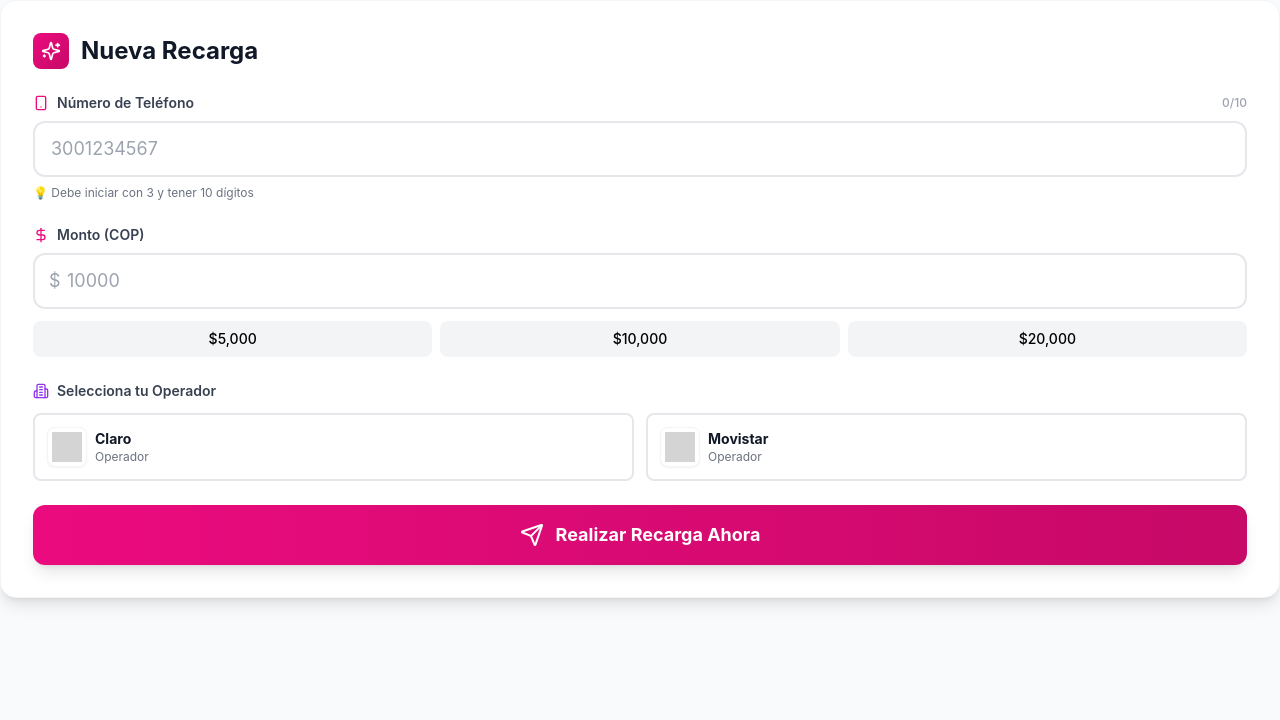
Test: RechargeForm › should show validation error for invalid amount
expect the heading "Nueva Recarga" is shown: met, box 81,35 -> 258,67
Note: Ingresar monto inválido (menor al mínimo)
In the field labelled "Monto (COP)": {"x": 640, "y": 281} 33,253 -> 1247,309, type "500"
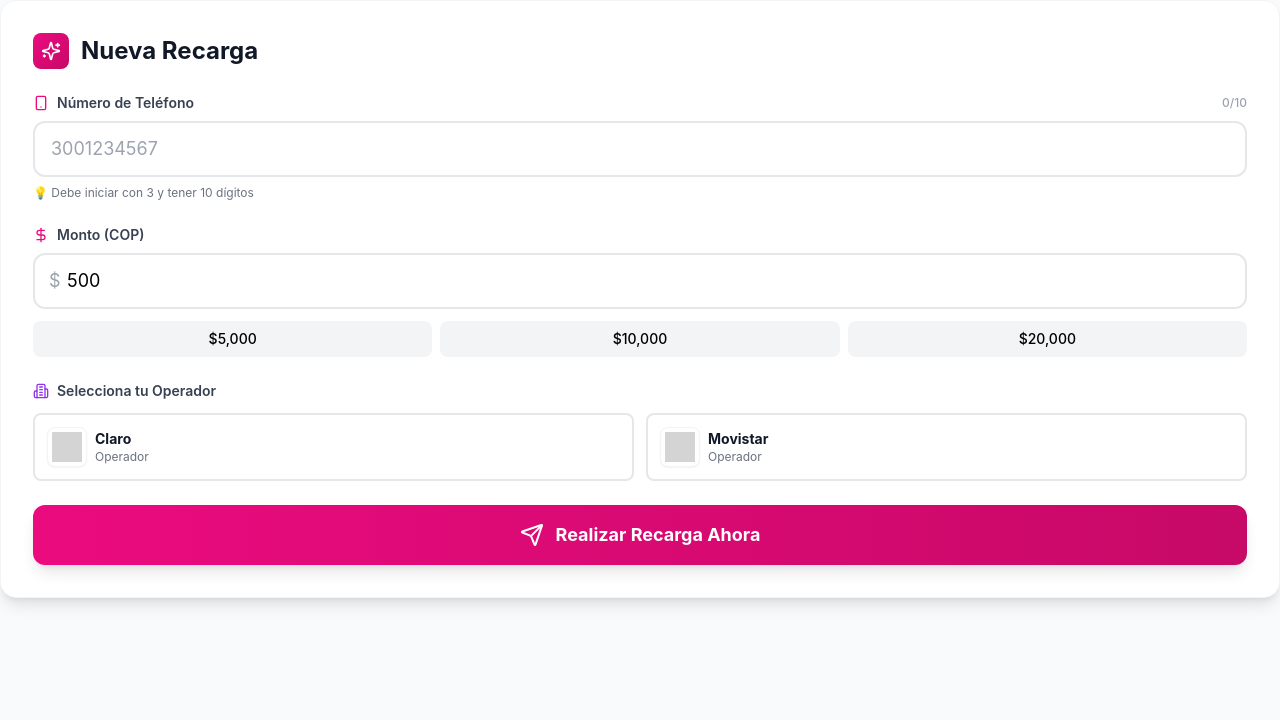
Click the button "Realizar Recarga Ahora": {"x": 640, "y": 535} 33,505 -> 1247,565
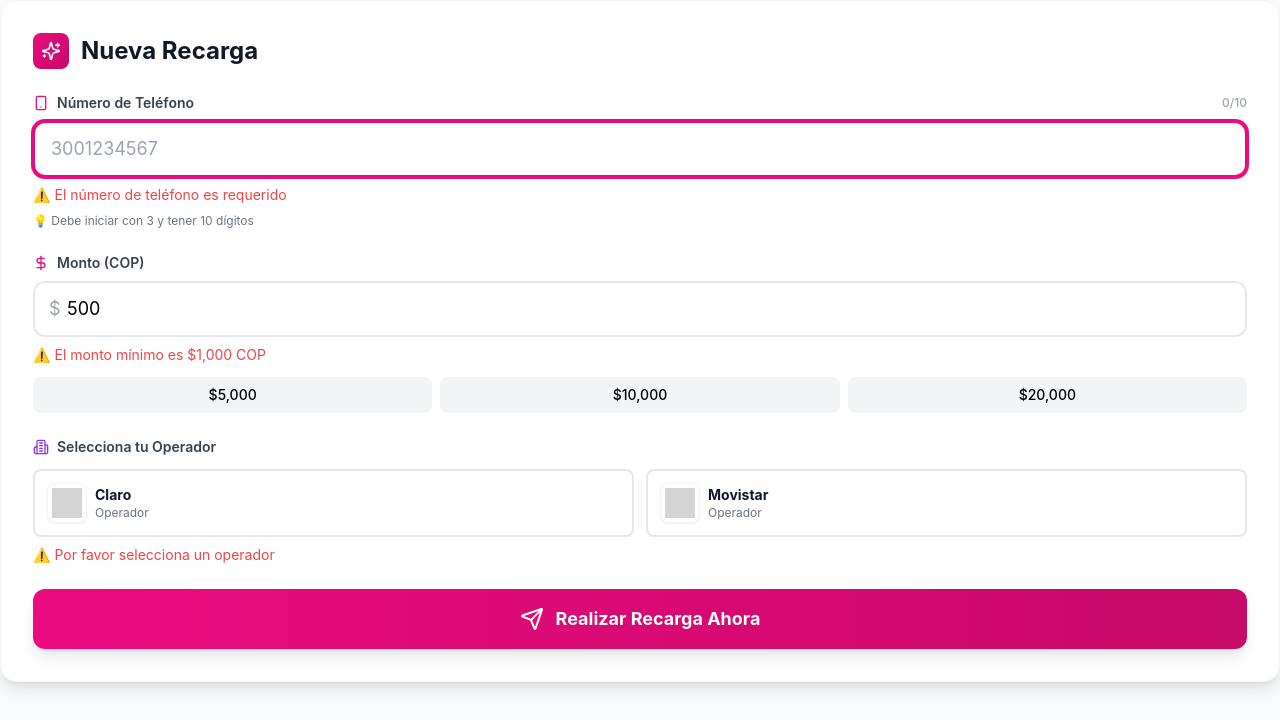
expect the text "⚠️ El monto mínimo es $1,000 COP" is shown: met, box 33,346 -> 266,363
